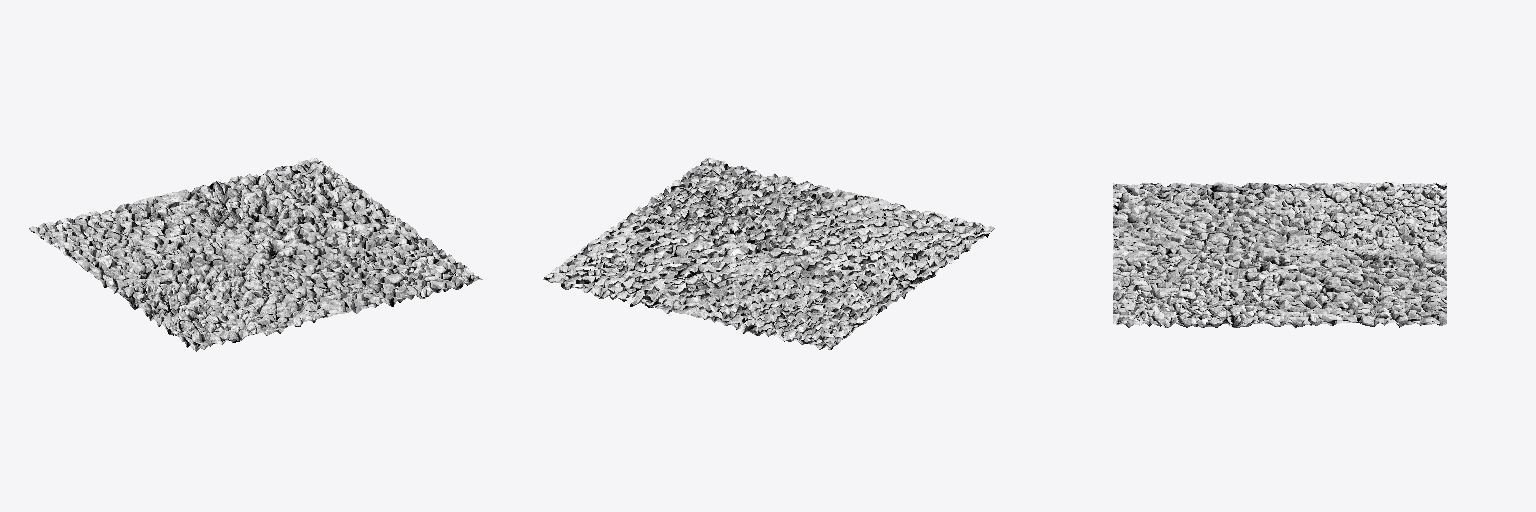
The picture shows the model from 3 angles: view 1: azimuth 30°, elevation 25°; view 2: azimuth 150°, elevation 25°; view 3: azimuth 270°, elevation 25°; orthographic projection.
Visible parts, largest first — view 1: Plane.002; view 2: Plane.002; view 3: Plane.002.
Boxes of the visible parts, x1,y1,x2,y2 form: Plane.002: [29, 158, 482, 351]; Plane.002: [543, 158, 994, 349]; Plane.002: [1113, 182, 1446, 328].
Bounding box in the file's own units: 2 × 0.0499 × 2.
Materials: 1 (1 with a texture image).